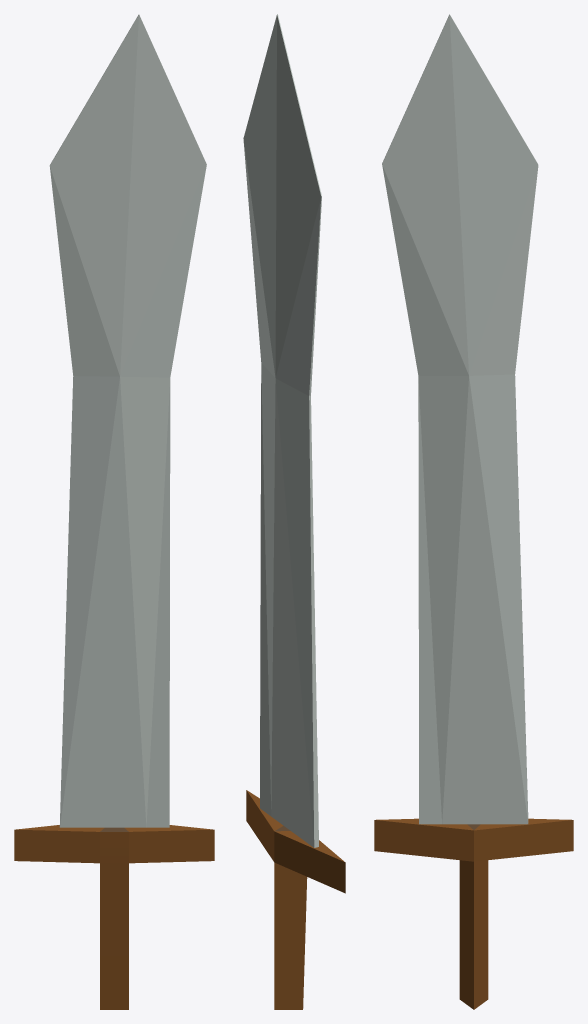
The model's file is Sword.fbx.
3 views of the same model, side by side, from view 1: azimuth 90°, elevation 25°; view 2: azimuth 210°, elevation 25°; view 3: azimuth 270°, elevation 25° (orthographic).
Visible parts, largest first — view 1: Sword; view 2: Sword; view 3: Sword.
Part boxes in pixels (x1=…): Sword: x1=14, y1=14, x2=214, y2=1009; Sword: x1=243, y1=14, x2=345, y2=1009; Sword: x1=374, y1=14, x2=573, y2=1009.
Size of the model in its own units: 1.82 by 65.24 by 11.94.
